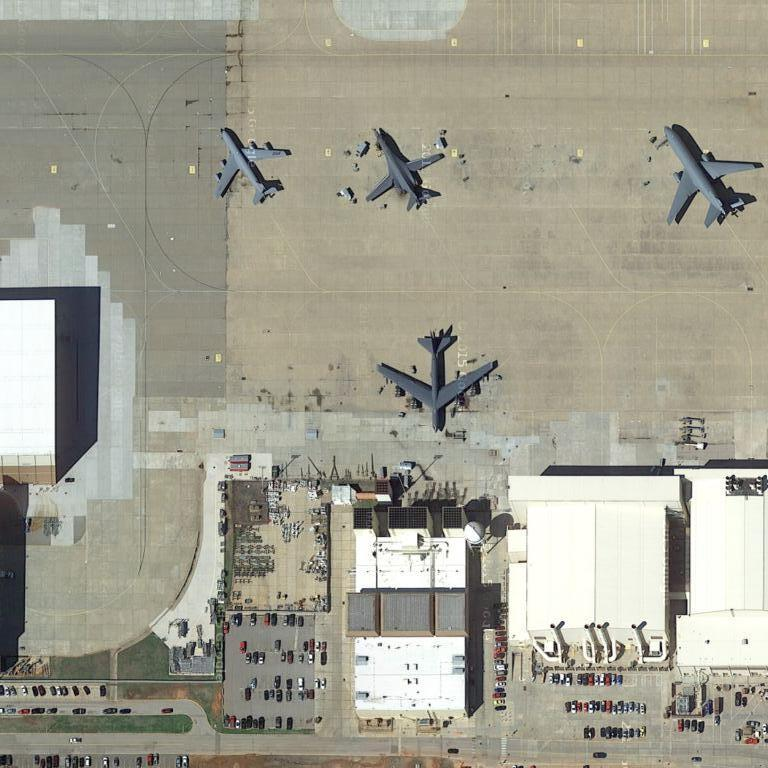B-1B: (360, 125, 452, 216)
B-52: (372, 324, 500, 435)
KC-10: (654, 124, 760, 231)
KC-135: (214, 123, 293, 207)
